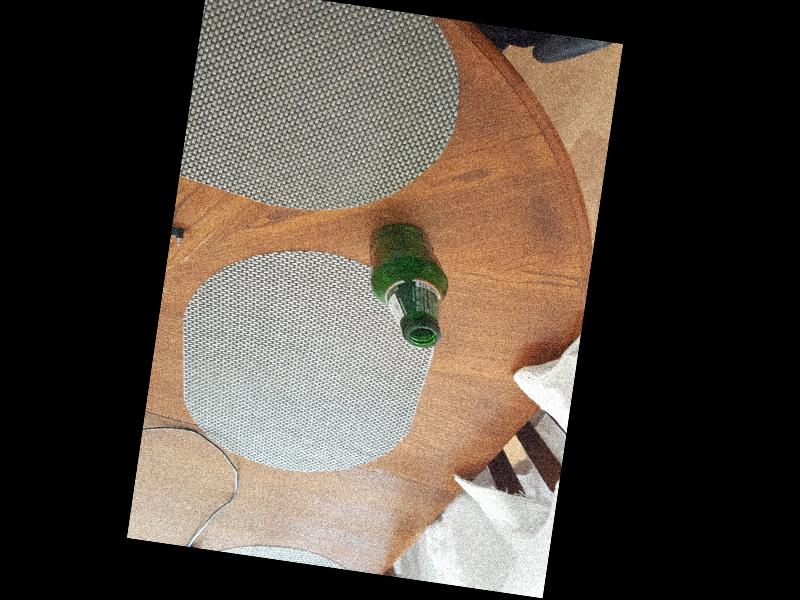Beer: (358, 217, 456, 349)
